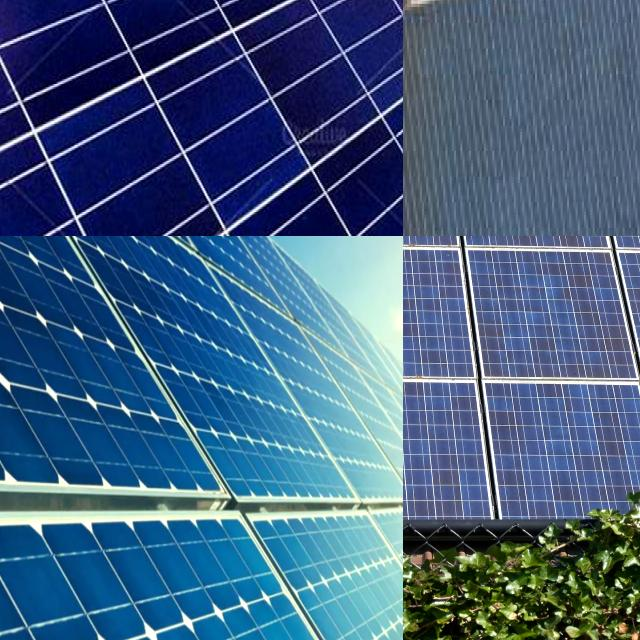crack: (0, 236, 403, 502), (0, 0, 403, 236), (0, 506, 403, 640), (474, 378, 640, 550), (447, 245, 640, 390), (64, 0, 390, 84), (403, 372, 519, 543), (433, 236, 628, 305), (403, 375, 475, 538), (403, 244, 490, 376), (403, 241, 473, 395), (280, 0, 403, 67), (403, 236, 493, 303)
shadow: (403, 0, 557, 80)
